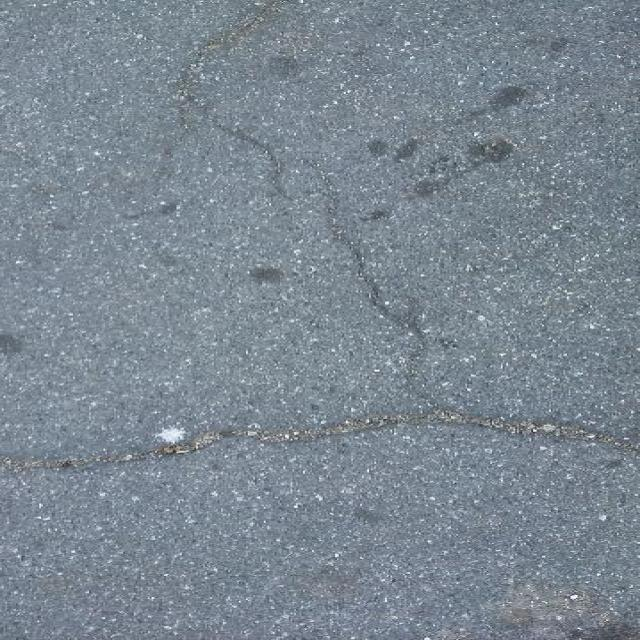GRIETA: (0, 409, 639, 468), (303, 160, 425, 345), (172, 0, 290, 148), (212, 119, 290, 198)
